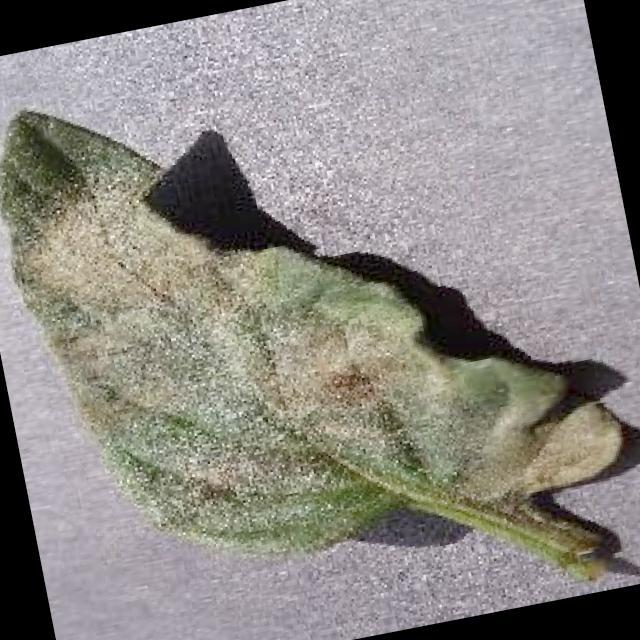Tomato late blight leaf: (0, 8, 638, 598)
